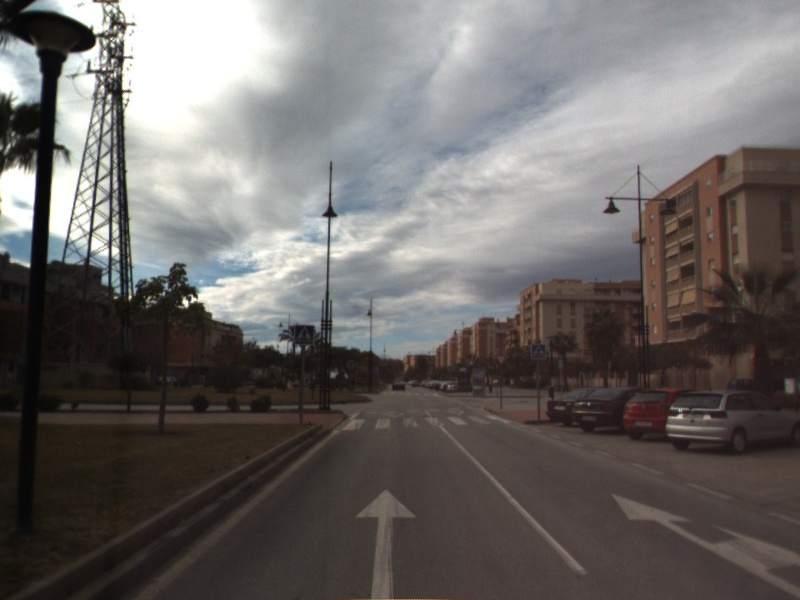STRAIGHT: (353, 487, 418, 600)
STRAIGHT_RIGHT: (609, 491, 800, 599)
